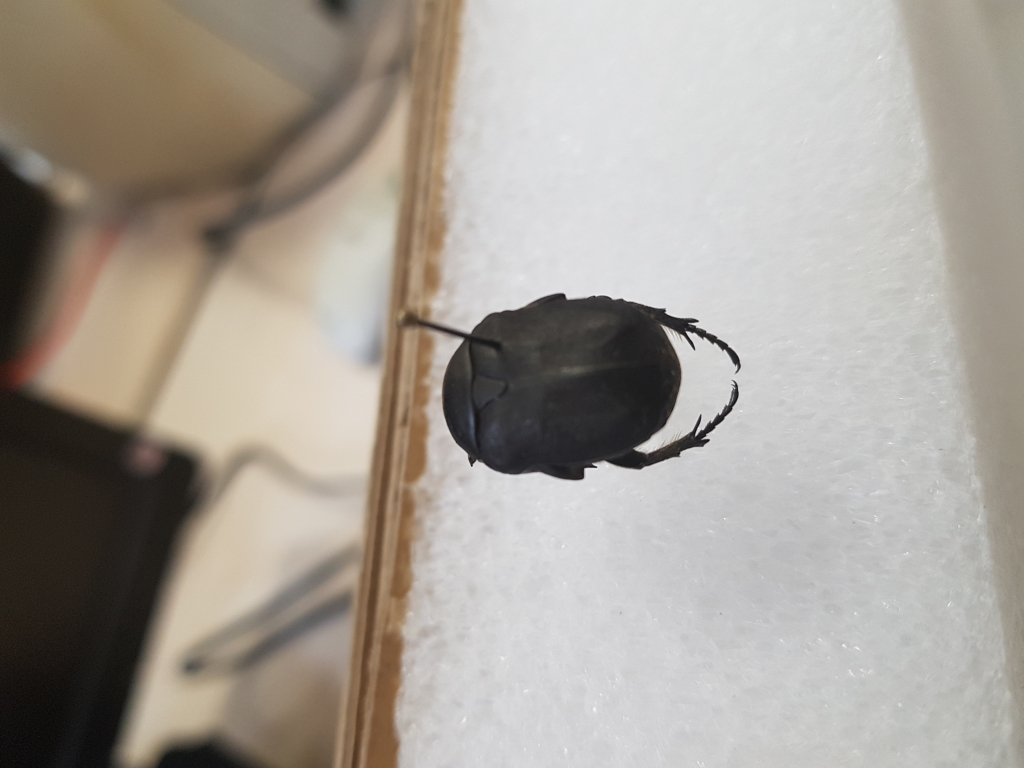Protaetia_asiatica: (436, 283, 752, 493)
